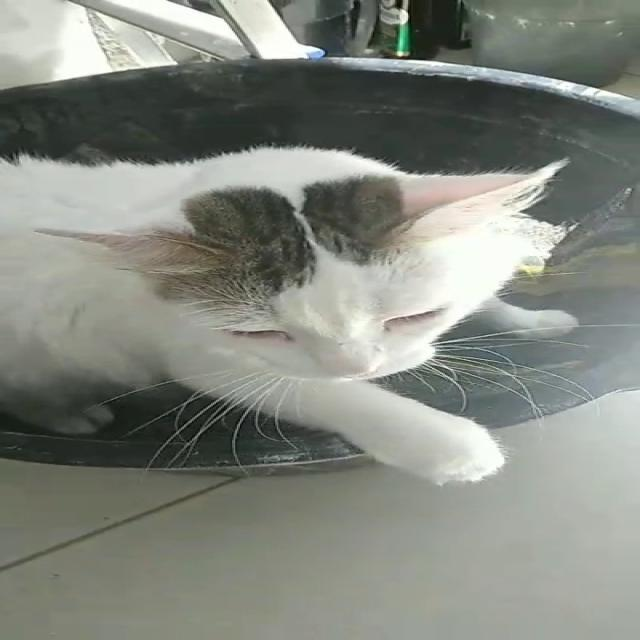Simba: (2, 142, 638, 501)
